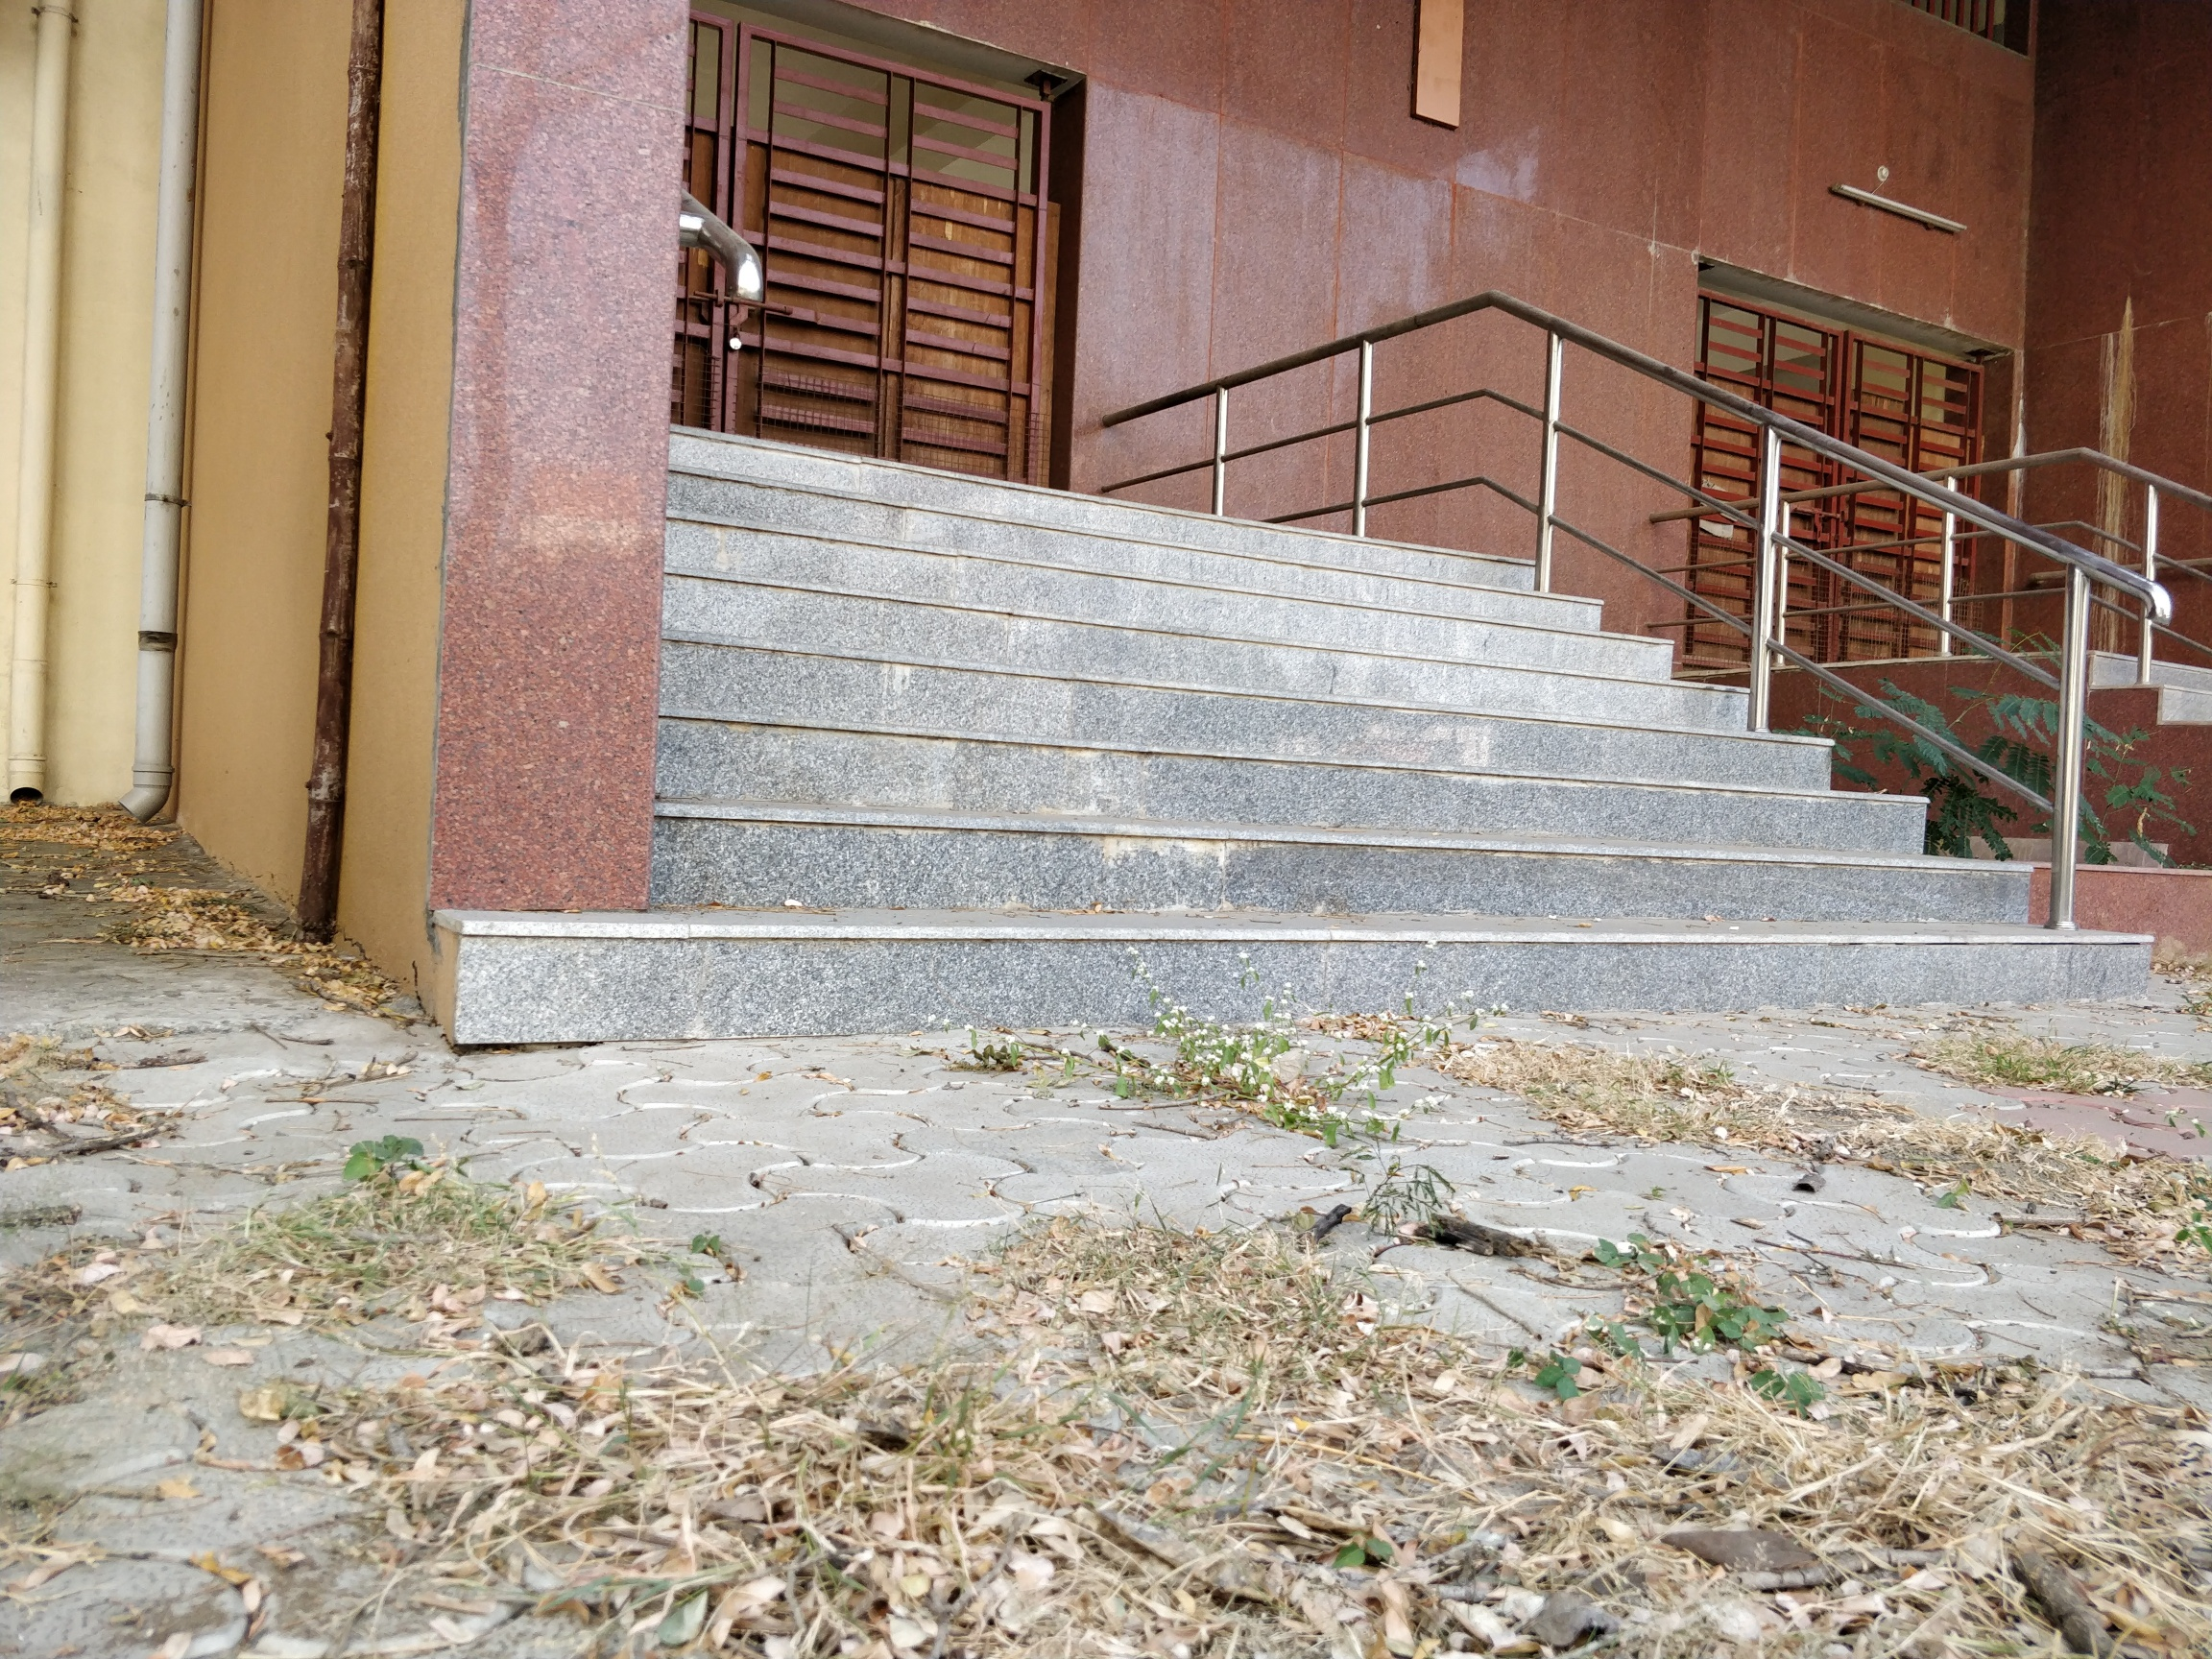stairs_up: (665, 416, 2087, 993)
